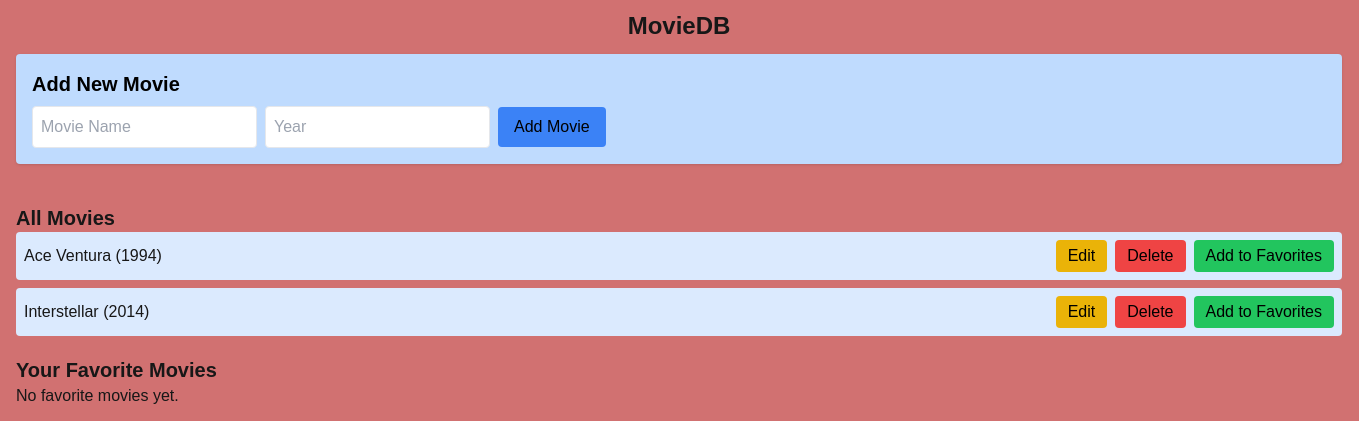
Test case: <MovieManager /> - Delete Movie › deletes a movie and updates the list
Expected: the text "Ace Ventura (1994)" is shown, [24,244,162,268]
// Click the delete button for "Ace Ventura"
Click the button "Delete" in the row of "1994": x=1150, y=256 [1115,240,1185,272]
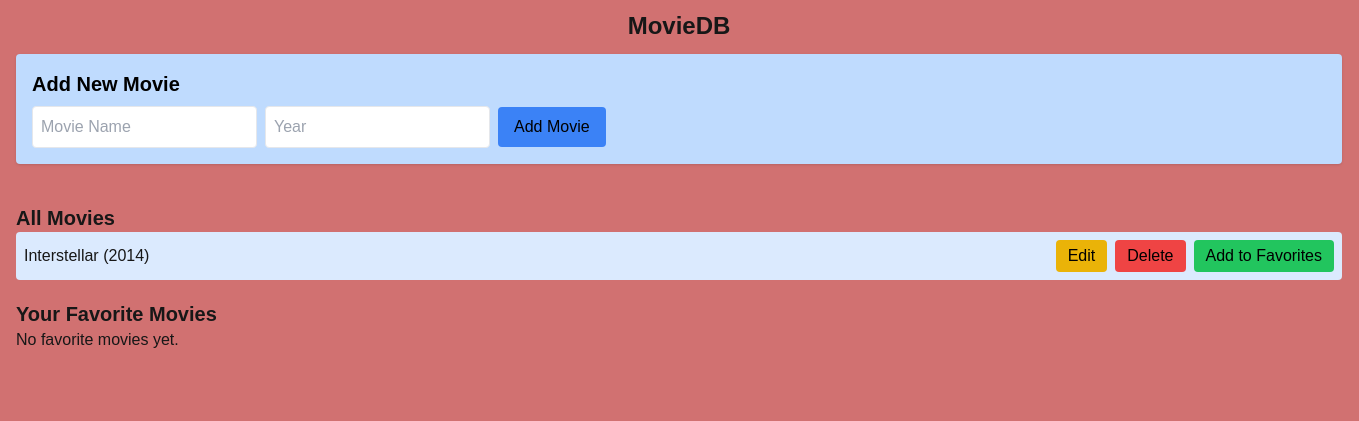
Expected: the text "Interstellar (2014)" is shown, [24,244,149,268]
Expected: the text "Ace Ventura (1994)" is gone
